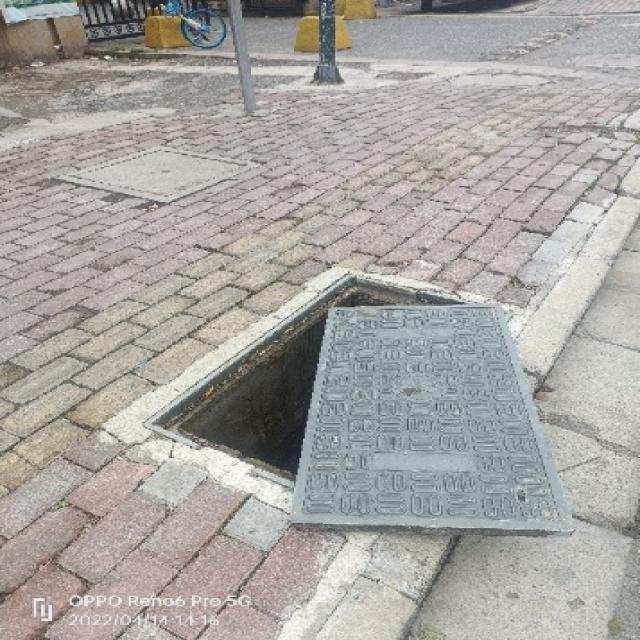Faulty: (138, 262, 588, 561)
Good: (42, 142, 274, 210)
